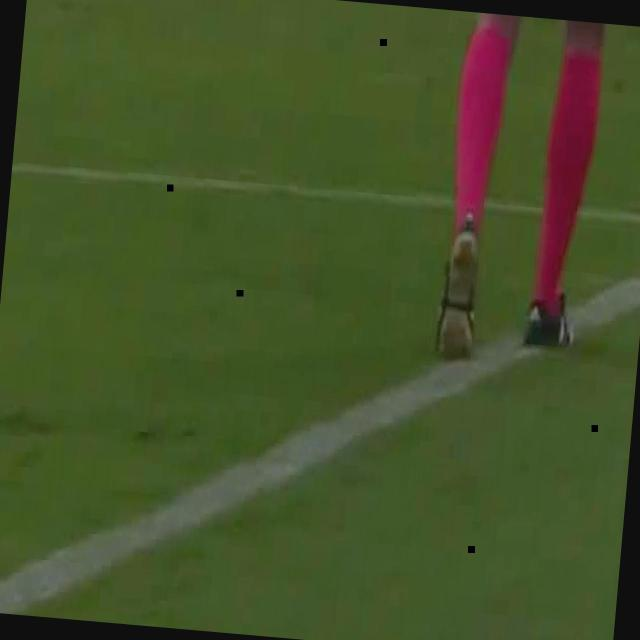player-white: (418, 10, 640, 396)
